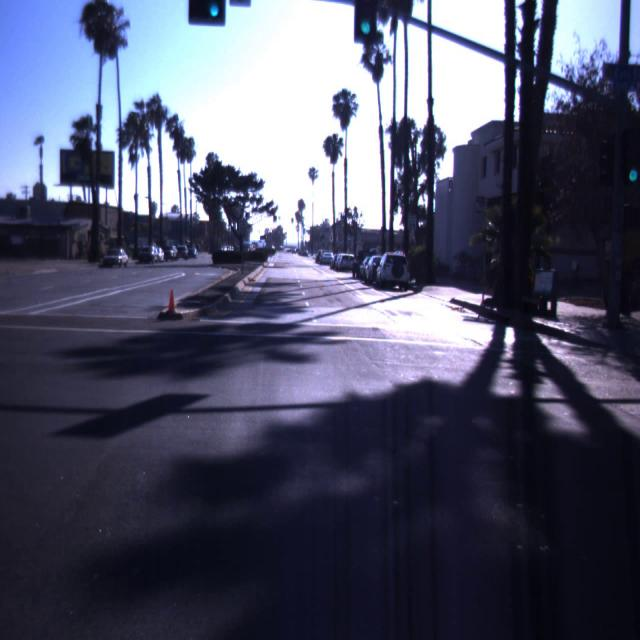go: (209, 4, 219, 17), (629, 170, 637, 182), (362, 22, 370, 32)
go traffic light: (620, 128, 640, 188), (353, 0, 378, 37), (200, 0, 228, 24)
